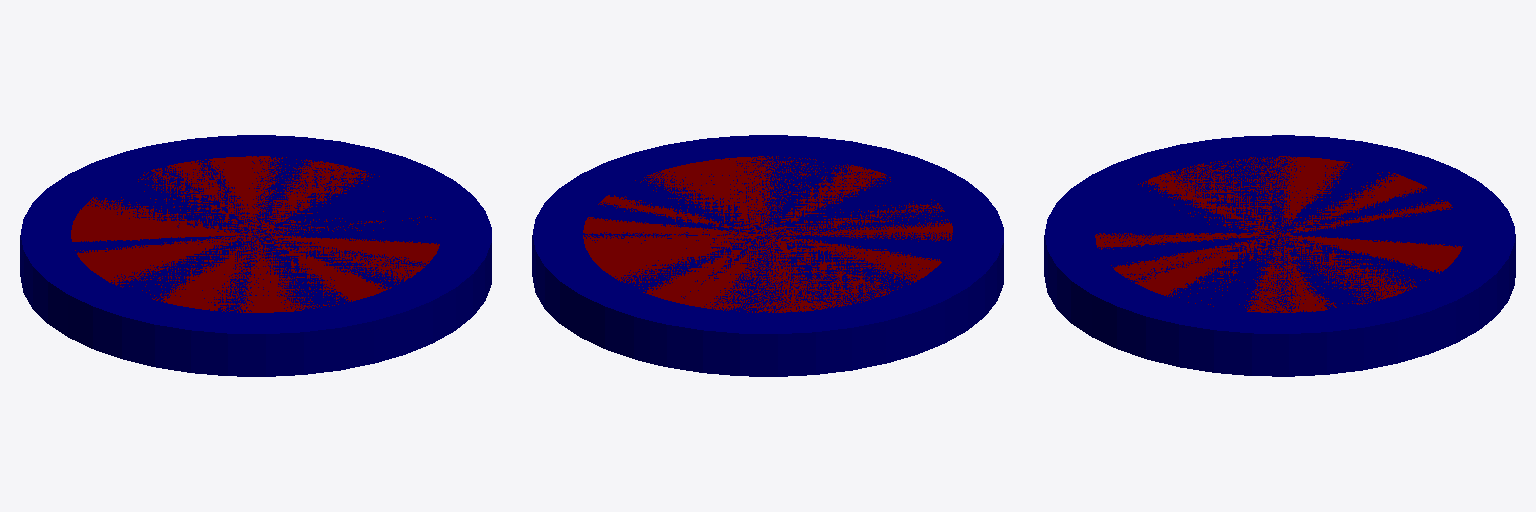
The robot description file, URDF, robot "input_connector_m.SLDASM":
<?xml version="1.0" encoding="utf-8"?>
<!-- This URDF was automatically created by SolidWorks to URDF Exporter! Originally created by [author] ([email redacted]) 
     Commit Version: 1.6.0-4-g7f85cfe  Build Version: 1.6.7995.38578
     For more information, please see http://wiki.ros.org/sw_urdf_exporter -->
<robot
  name="input_connector_m.SLDASM">
  <link
    name="ic_out">
    <inertial>
      <origin
        xyz="0 -4.8218E-18 -0.0047"
        rpy="0 0 0" />
      <mass
        value="0.50882" />
      <inertia
        ixx="0.00028474"
        ixy="0"
        ixz="2.1721E-37"
        iyy="0.00028474"
        iyz="0"
        izz="0.000562" />
    </inertial>
    <visual>
      <origin
        xyz="0 0 0"
        rpy="0 0 0" />
      <geometry>
        <mesh
          filename="package://input_connector_m.SLDASM/meshes/ic_out.STL" />
      </geometry>
      <material
        name="red">
        <color
          rgba="0.5 0 0 1" />
      </material>
    </visual>
    <collision>
      <origin
        xyz="0 0 0"
        rpy="0 0 0" />
      <geometry>
        <mesh
          filename="package://input_connector_m.SLDASM/meshes/ic_out.STL" />
      </geometry>
    </collision>
  </link>
  <link
    name="ic_body">
    <inertial>
      <origin
        xyz="0 -4.8218E-18 -0.0047"
        rpy="0 0 0" />
      <mass
        value="0.50882" />
      <inertia
        ixx="0.00028474"
        ixy="0"
        ixz="2.1721E-37"
        iyy="0.00028474"
        iyz="0"
        izz="0.000562" />
    </inertial>
    <visual>
      <origin
        xyz="0 0 0"
        rpy="0 0 0" />
      <geometry>
        <mesh
          filename="package://input_connector_m.SLDASM/meshes/ic_body.STL" />
      </geometry>
      <material
        name="blue">
        <color
          rgba="0 0 0.5 1" />
      </material>
    </visual>
    <collision>
      <origin
        xyz="0 0 0"
        rpy="0 0 0" />
      <geometry>
        <mesh
          filename="package://input_connector_m.SLDASM/meshes/ic_body.STL" />
      </geometry>
    </collision>
  </link>
  <joint
    name="ic_medium_1"
    type="fixed">
    <origin
      xyz="0 0 0"
      rpy="0 0 0" />
    <parent
      link="ic_out" />
    <child
      link="ic_body" />
    <axis
      xyz="0 0 0" />
  </joint>
  <link
    name="ic_in">
    <inertial>
      <origin
        xyz="-4.5413E-34 1.0801E-17 0.0047"
        rpy="0 0 0" />
      <mass
        value="0.50882" />
      <inertia
        ixx="0.00028474"
        ixy="0"
        ixz="2.1721E-37"
        iyy="0.00028474"
        iyz="0"
        izz="0.000562" />
    </inertial>
    <visual>
      <origin
        xyz="0 0 0"
        rpy="0 0 0" />
      <geometry>
        <mesh
          filename="package://input_connector_m.SLDASM/meshes/ic_in.STL" />
      </geometry>
      <material
        name="blue">
        <color
          rgba="0 0 0.5 1" />
      </material>
    </visual>
    <collision>
      <origin
        xyz="0 0 0"
        rpy="0 0 0" />
      <geometry>
        <mesh
          filename="package://input_connector_m.SLDASM/meshes/ic_in.STL" />
      </geometry>
    </collision>
  </link>
  <joint
    name="ic_medium_2"
    type="fixed">
    <origin
      xyz="0 0 -0.0094"
      rpy="0 0 0" />
    <parent
      link="ic_body" />
    <child
      link="ic_in" />
    <axis
      xyz="0 0 0" />
  </joint>
</robot>

--- What the picture shows (computed from the rendered views, not written in the file) ---
Views: 3 orthographic renders of the robot side by side, from view 1: azimuth 30°, elevation 25°; view 2: azimuth 150°, elevation 25°; view 3: azimuth 270°, elevation 25°.
Robot: input_connector_m.SLDASM — 3 links, 2 joints (2 fixed); root link ic_out; default pose: every joint at zero.
Visible links, largest first — view 1: ic_body, ic_out; view 2: ic_body, ic_out; view 3: ic_body, ic_out.
Boxes of the visible links, bbox=[...] form: ic_body: bbox=[20, 135, 491, 376]; ic_out: bbox=[71, 156, 439, 312]; ic_body: bbox=[532, 135, 1003, 376]; ic_out: bbox=[583, 156, 952, 312]; ic_body: bbox=[1044, 135, 1515, 376]; ic_out: bbox=[1095, 156, 1462, 312].
Size in the robot's own frame: 0.0939 by 0.094 by 0.0094 metres.
3 mesh visuals loaded from 3 distinct referenced files (3 binary STL).